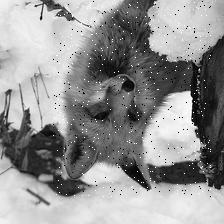fox: (53, 0, 211, 197)
